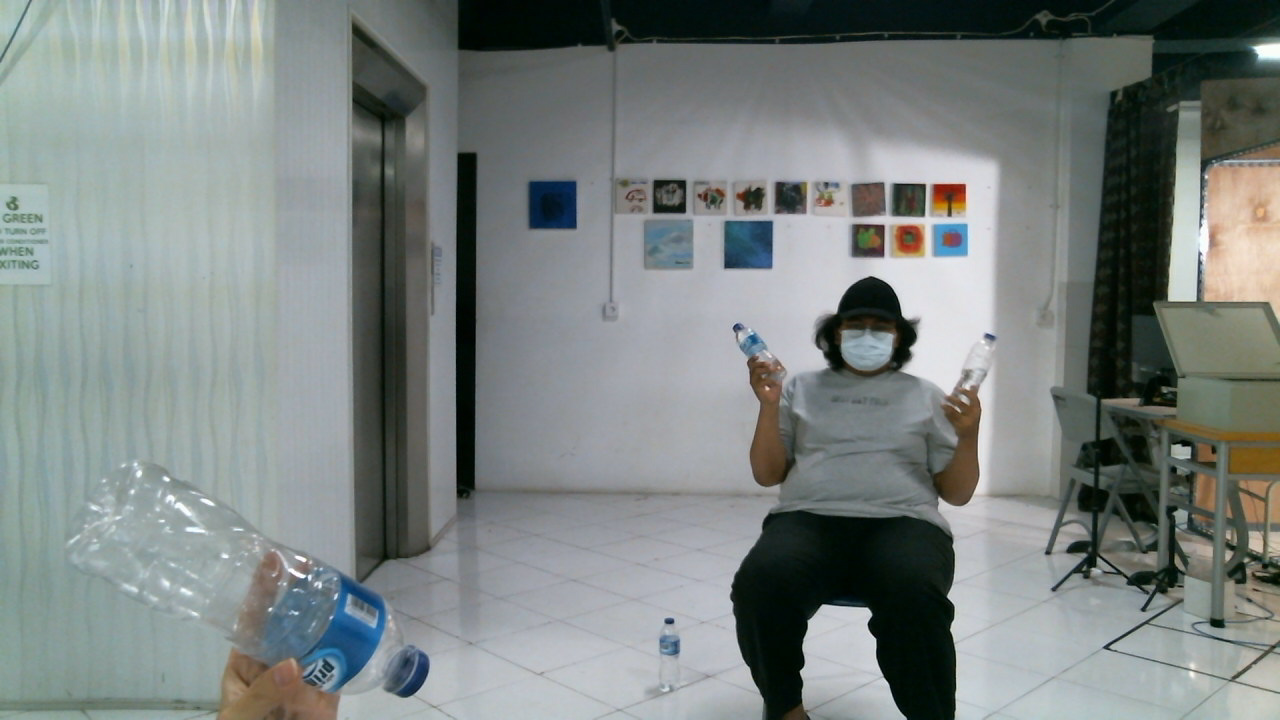Bottle: (49, 465, 425, 699), (732, 313, 785, 387), (662, 615, 685, 688)
